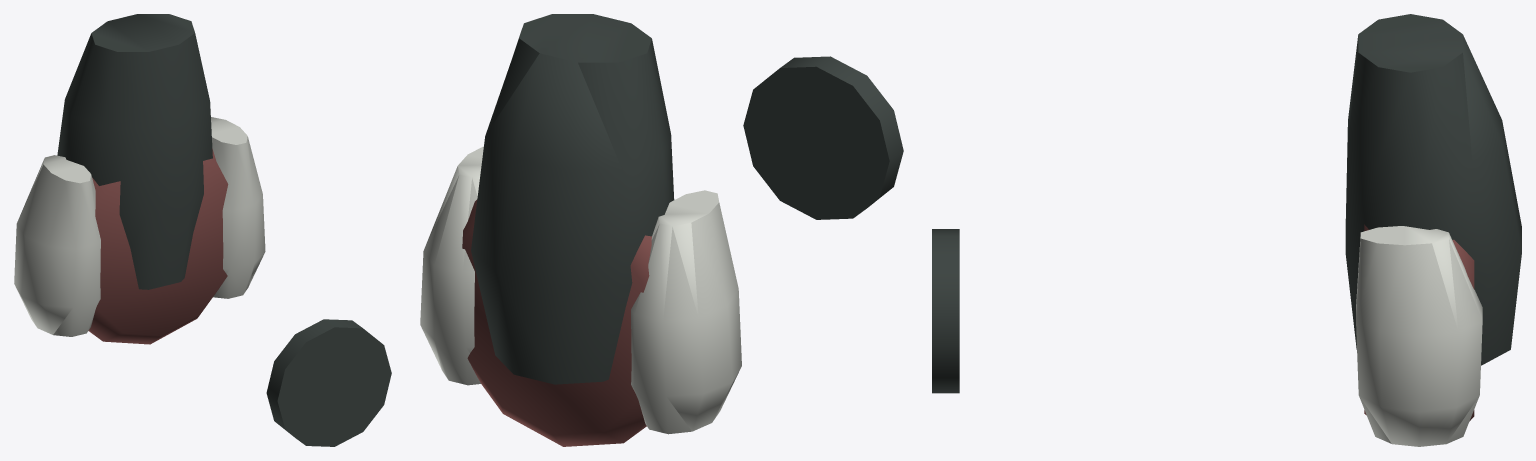
Rendered from warqueen.obj.
3 views of the same model, side by side, from view 1: azimuth 30°, elevation 25°; view 2: azimuth 150°, elevation 25°; view 3: azimuth 270°, elevation 25° (orthographic). The views are drawn at different scales.
Visible parts, largest first — view 1: source_component_003, source_component_001, source_component_000, source_component_004, source_component_002; view 2: source_component_003, source_component_001, source_component_004, source_component_000, source_component_002; view 3: source_component_003, source_component_002, source_component_004.
Boxes of the visible parts, x1,y1,x2,y2 form: source_component_003: [57, 14, 212, 289]; source_component_001: [14, 155, 100, 336]; source_component_000: [88, 148, 228, 344]; source_component_004: [266, 319, 391, 446]; source_component_002: [211, 117, 265, 298]; source_component_003: [471, 14, 674, 384]; source_component_001: [631, 190, 741, 434]; source_component_004: [743, 56, 903, 219]; source_component_000: [462, 199, 651, 446]; source_component_002: [420, 146, 483, 385]; source_component_003: [1345, 14, 1521, 365]; source_component_002: [1356, 226, 1482, 446]; source_component_004: [932, 229, 959, 393].
Size of the model in its own units: 1.18 by 1.46 by 2.04.
